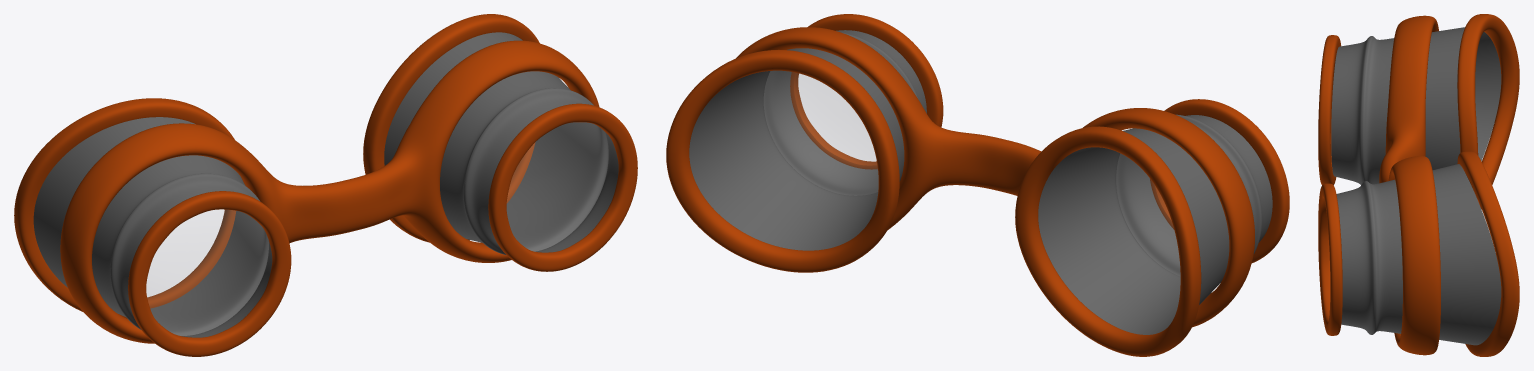
Rendered from 12. Steam Punk Goggles-osdtGcMp.glb.
3 views of the same model, side by side, from view 1: azimuth 30°, elevation 25°; view 2: azimuth 150°, elevation 25°; view 3: azimuth 270°, elevation 25° (orthographic). The views are drawn at different scales.
Visible parts, largest first — view 1: Cylinder.031, Cylinder.034, Cylinder.035, Cylinder.032, Cylinder.033; view 2: Cylinder.031, Cylinder.033, Cylinder.034, Cylinder.035, Cylinder.032; view 3: Cylinder.031, Cylinder.034, Cylinder.033, Cylinder.032.
Boxes of the visible parts, bbox=[...] form: Cylinder.031: bbox=[33, 32, 618, 337]; Cylinder.034: bbox=[60, 40, 599, 343]; Cylinder.035: bbox=[146, 122, 608, 335]; Cylinder.032: bbox=[128, 103, 637, 356]; Cylinder.033: bbox=[14, 14, 539, 318]; Cylinder.031: bbox=[689, 30, 1272, 334]; Cylinder.033: bbox=[666, 49, 1201, 356]; Cylinder.034: bbox=[736, 27, 1254, 327]; Cylinder.035: bbox=[764, 71, 1180, 275]; Cylinder.032: bbox=[790, 14, 1289, 262]; Cylinder.031: bbox=[1331, 27, 1501, 345]; Cylinder.034: bbox=[1379, 15, 1440, 355]; Cylinder.033: bbox=[1457, 14, 1519, 356]; Cylinder.032: bbox=[1318, 35, 1342, 335].
Size of the model in its own units: 0.2807 by 0.1096 by 0.1073.
